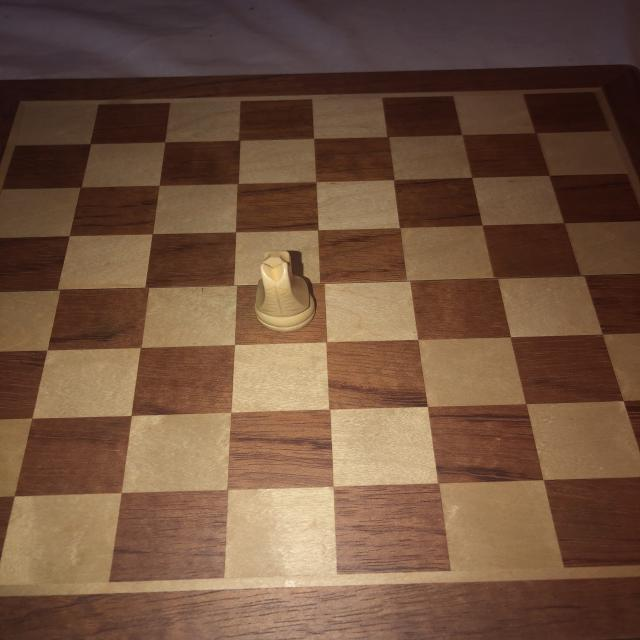white_knight: (248, 248, 320, 335)
